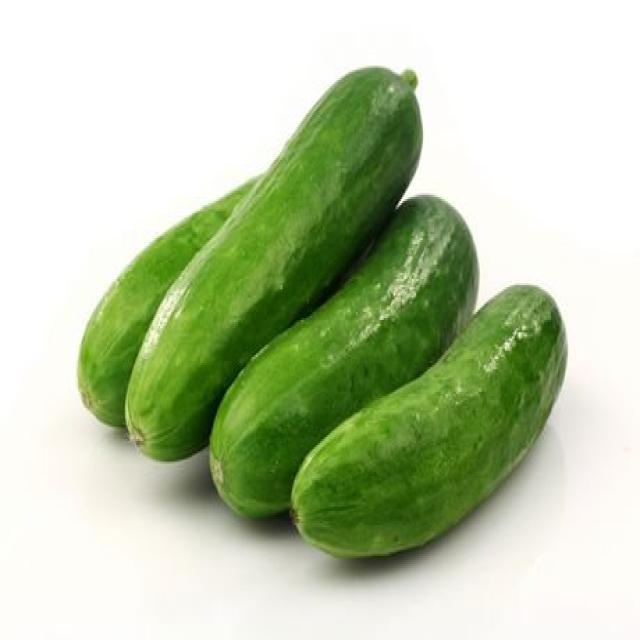cucumber: (79, 62, 567, 564)
